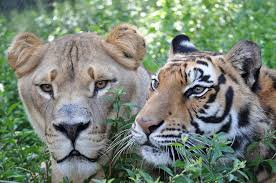lion: (7, 14, 165, 183)
tiger: (133, 26, 274, 183)
